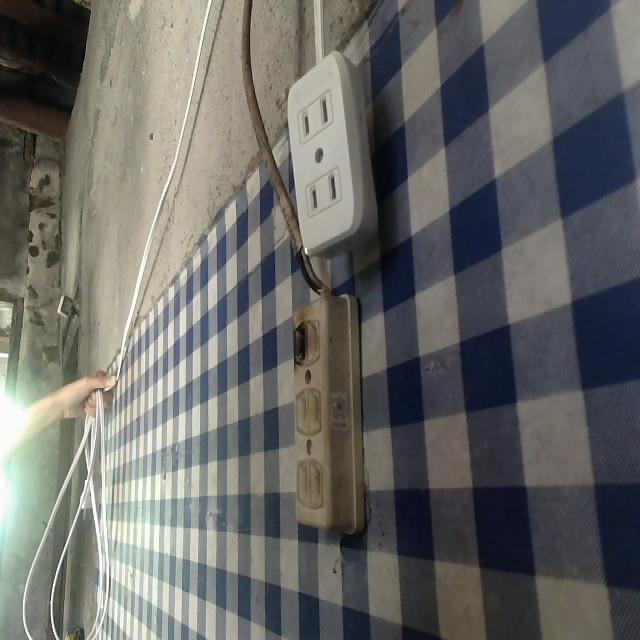-: (284, 312, 309, 367)
